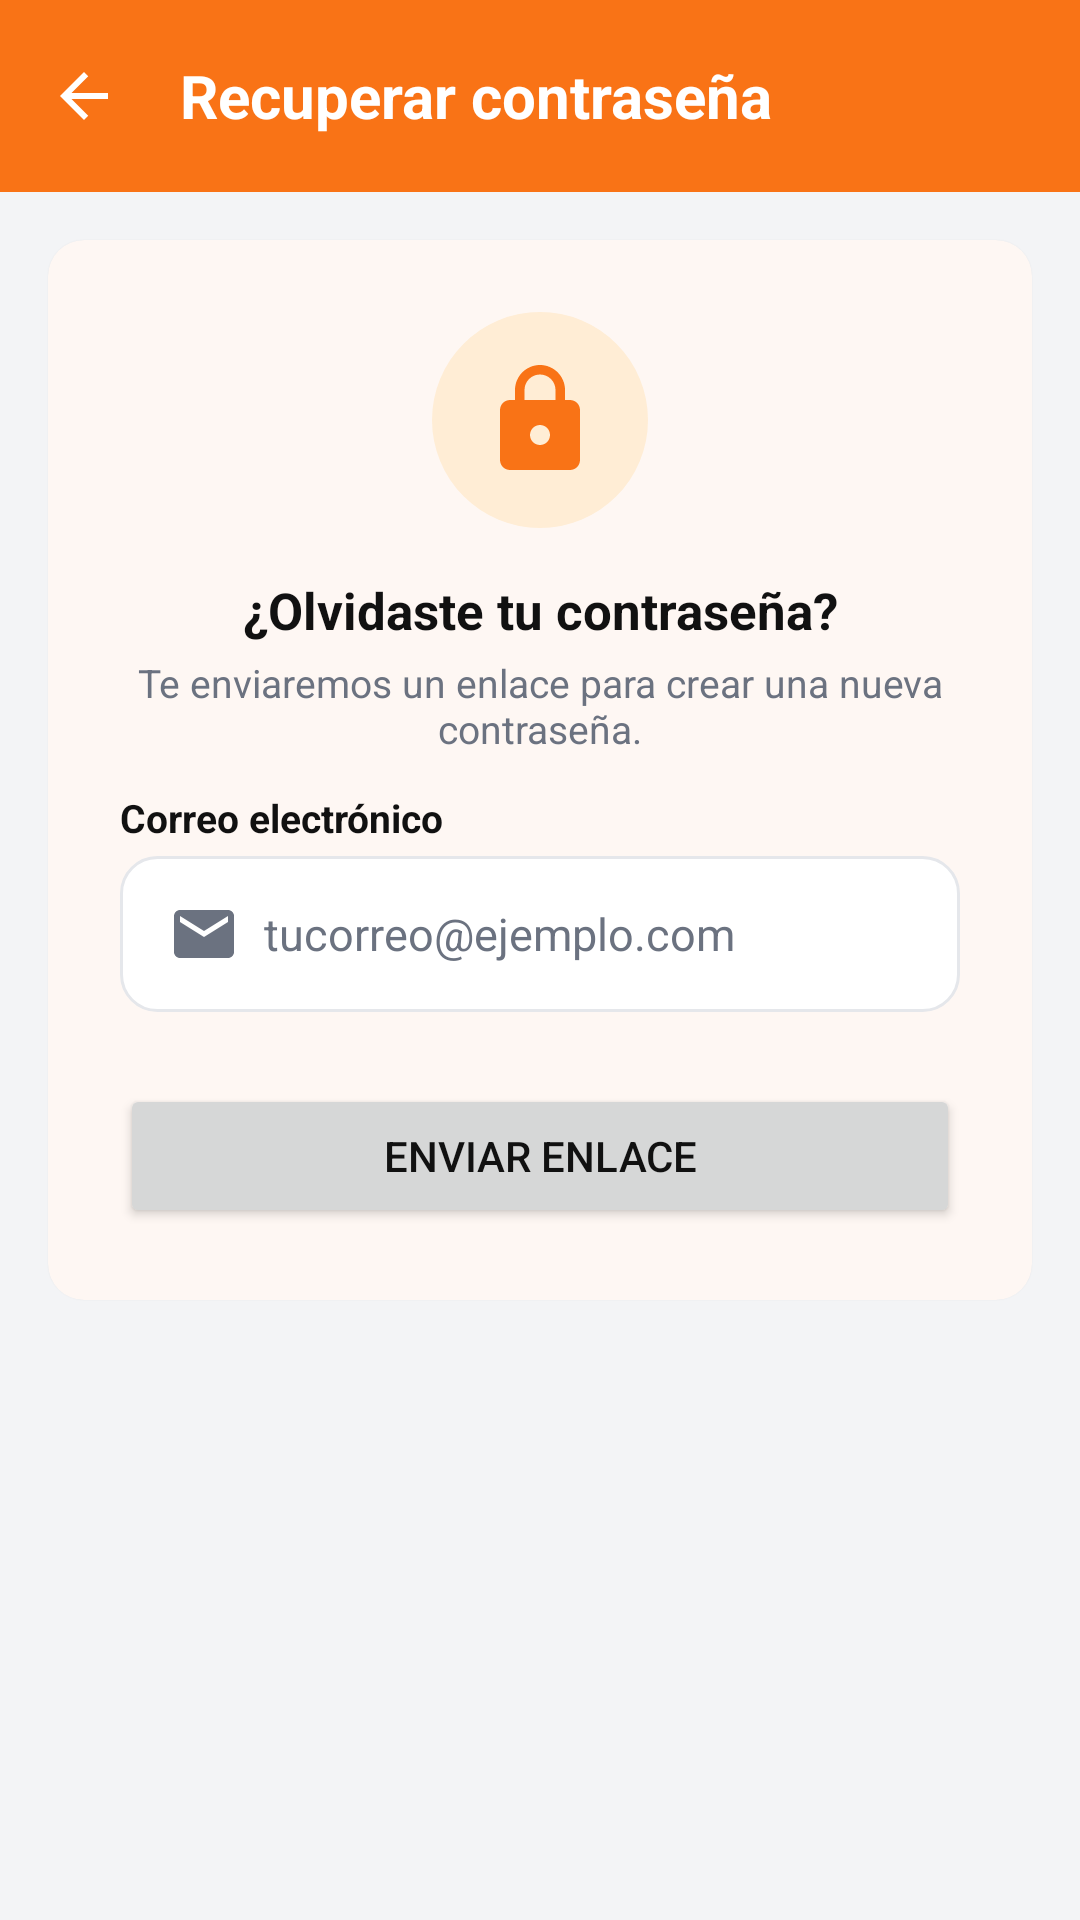

Point at icon controls on the screen. Image size 1080 × 1920, points as (x,y).
lock: (540,420)
